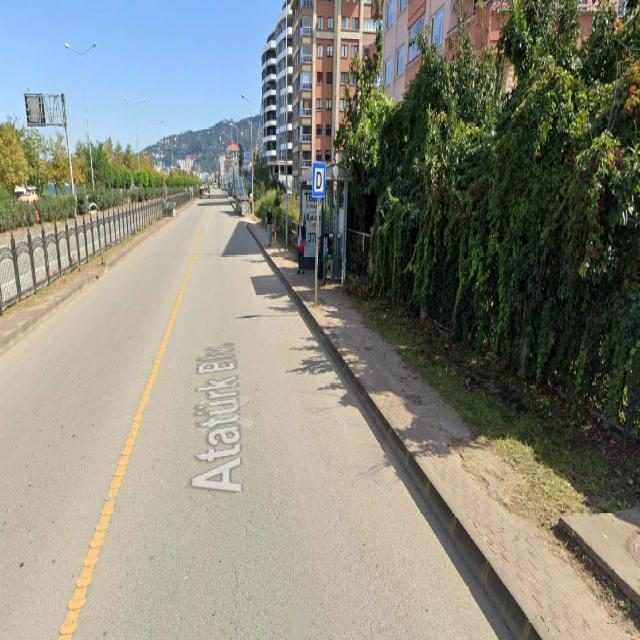durak: (314, 162, 322, 198)
